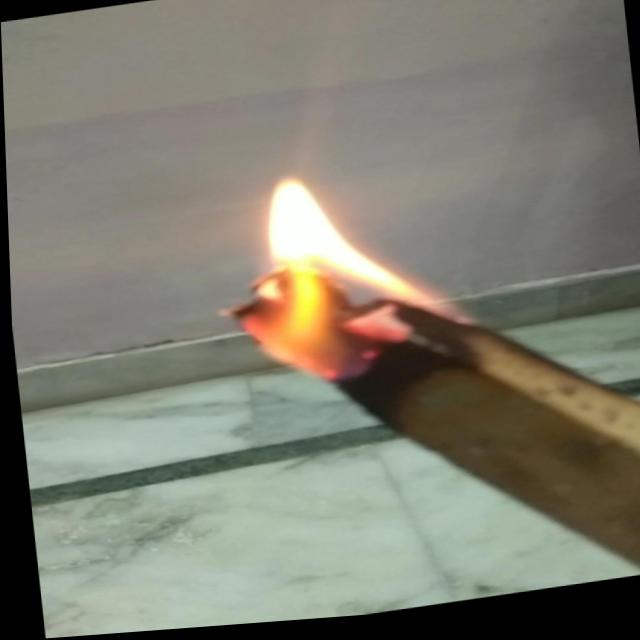fire: (203, 149, 471, 402)
